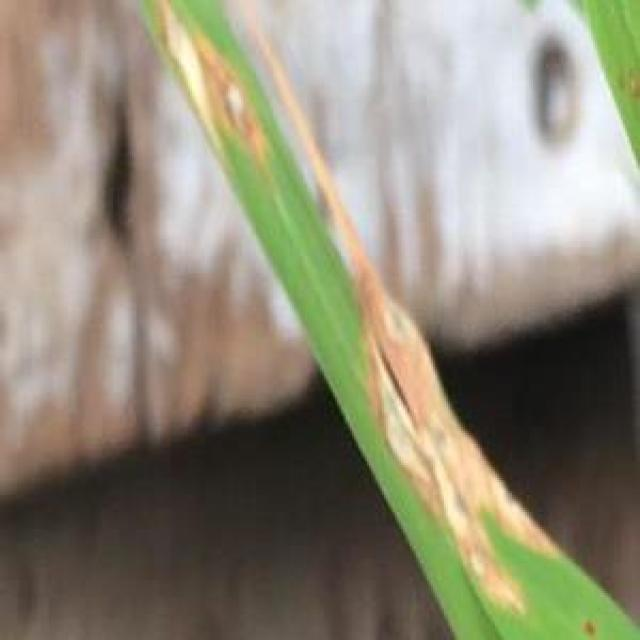Bacterial_Blight: (234, 0, 530, 619), (241, 0, 566, 563), (156, 0, 269, 154)
